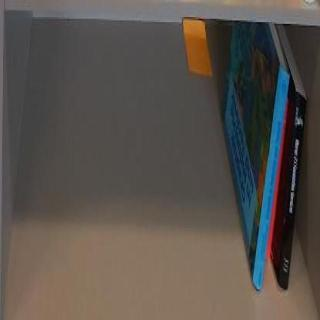book-spine: (251, 65, 292, 294), (276, 92, 308, 292), (266, 97, 290, 262)
